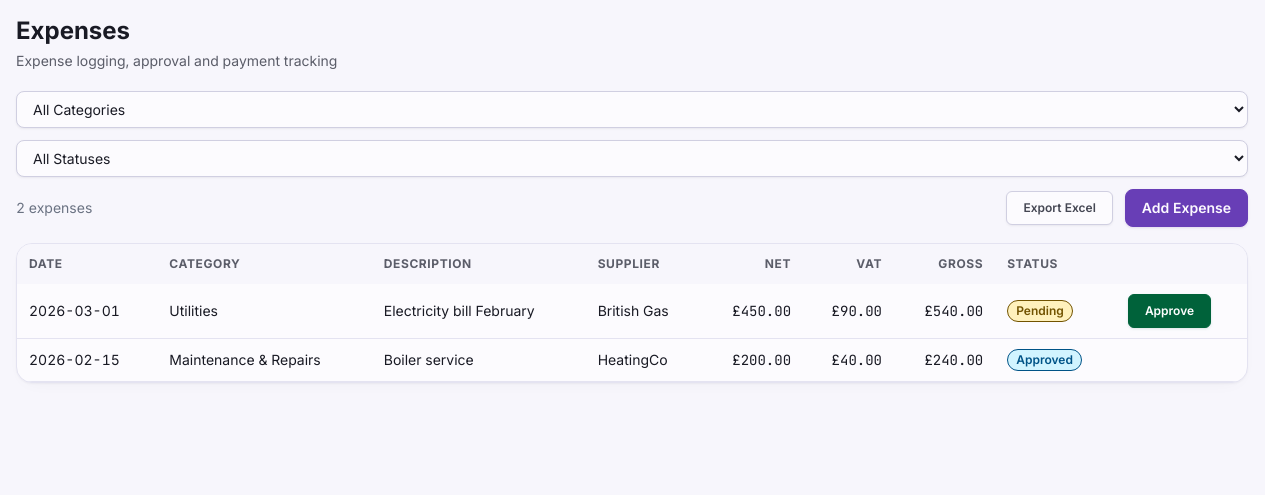
it: ExpenseTracker › shows export failures without crashing the page
Click the button "Export Excel" at (1060, 208), box [1006,191,1113,225]
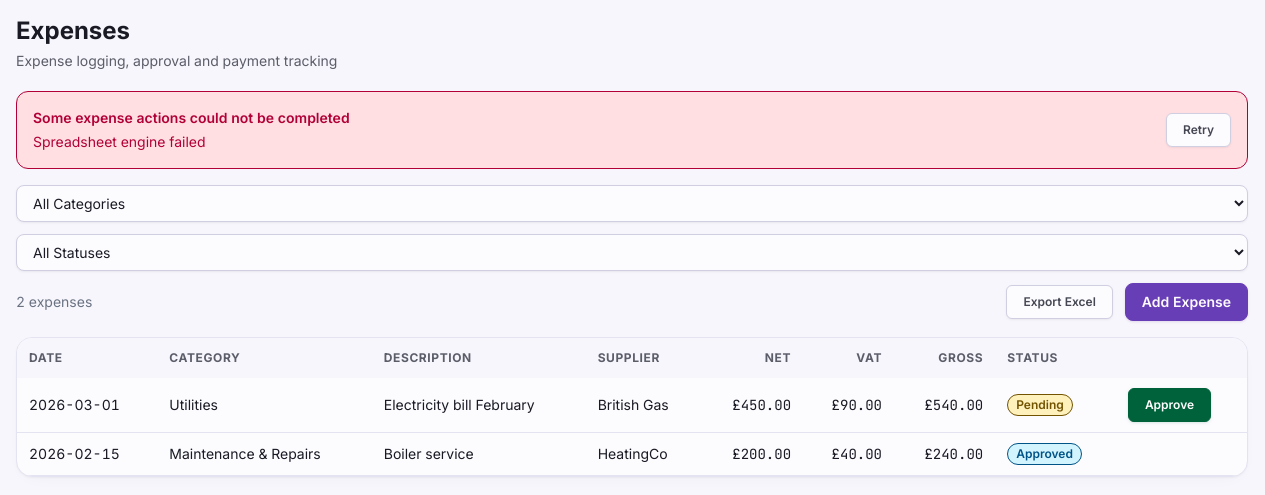
Check: the heading "Expenses" is shown, box [16,16,130,45]
Check: the text "Spreadsheet engine failed" is shown, box [33,133,206,150]
